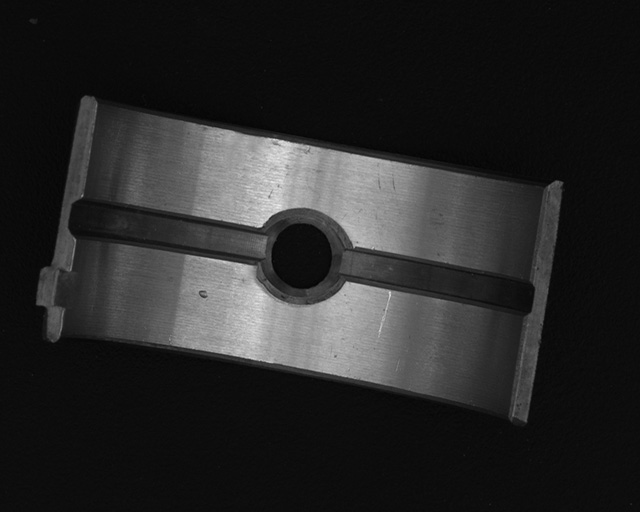bruise: (198, 289, 209, 299)
gap: (339, 247, 533, 315), (70, 200, 268, 261)
hole: (261, 209, 347, 305)
nick: (376, 290, 392, 340)
